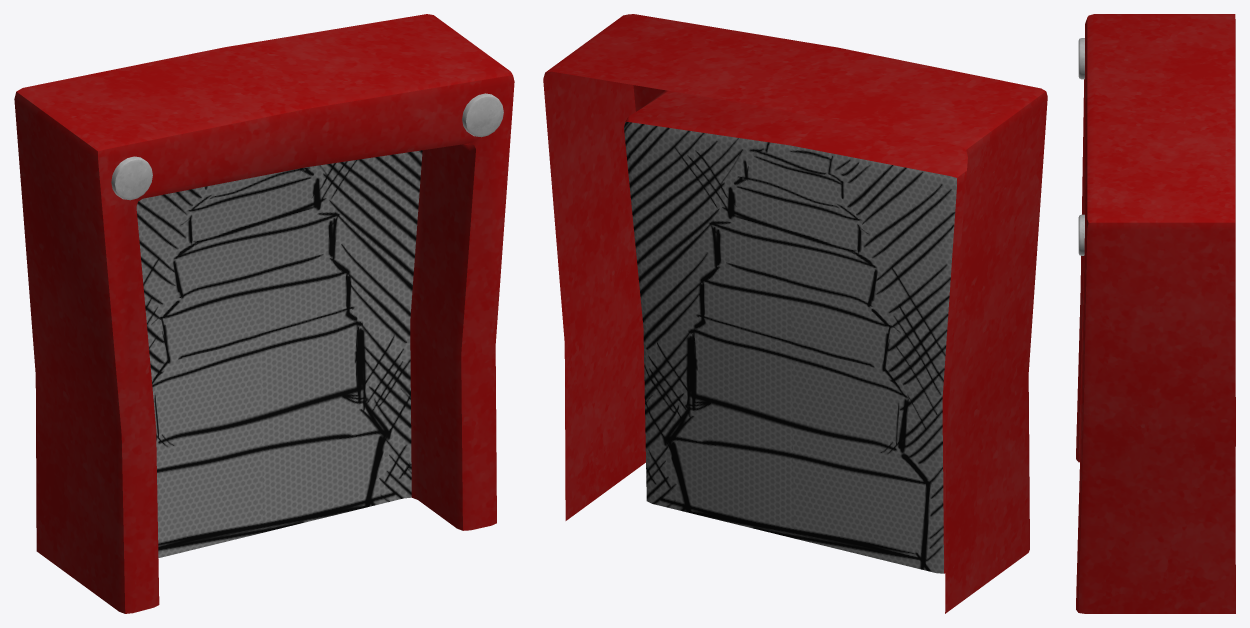
Rendered from Door_Base.fbx.
3 renders of one model, left to right at view 1: azimuth 30°, elevation 25°; view 2: azimuth 150°, elevation 25°; view 3: azimuth 270°, elevation 25°, orthographic. The views are drawn at different scales.
Visible parts, largest first — view 1: Door; view 2: Door; view 3: Door.
Boxes of the visible parts, left/top/right/bottom form: Door: left=14, top=14, right=514, bottom=613; Door: left=543, top=14, right=1047, bottom=613; Door: left=1076, top=14, right=1235, bottom=613.
Size of the model in its own units: 29.93 by 31.72 by 10.8.
